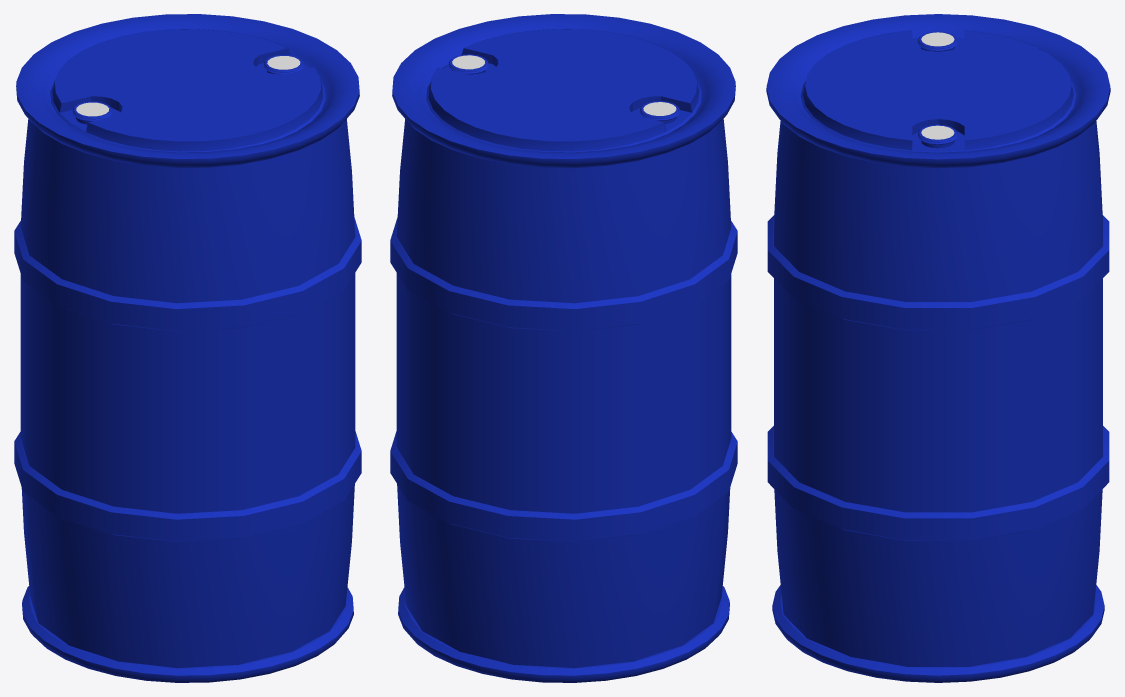
File: chemical barrel.fbx
3 views of the same model, side by side, from view 1: azimuth 30°, elevation 25°; view 2: azimuth 150°, elevation 25°; view 3: azimuth 270°, elevation 25° (orthographic).
Parts seen in each view (by area): view 1: Cylinder; view 2: Cylinder; view 3: Cylinder.
Boxes of the visible parts, x1,y1,x2,y2 form: Cylinder: (14,14,361,682); Cylinder: (390,14,737,682); Cylinder: (766,14,1110,682).
Size of the model in its own units: 205 by 349 by 205.
